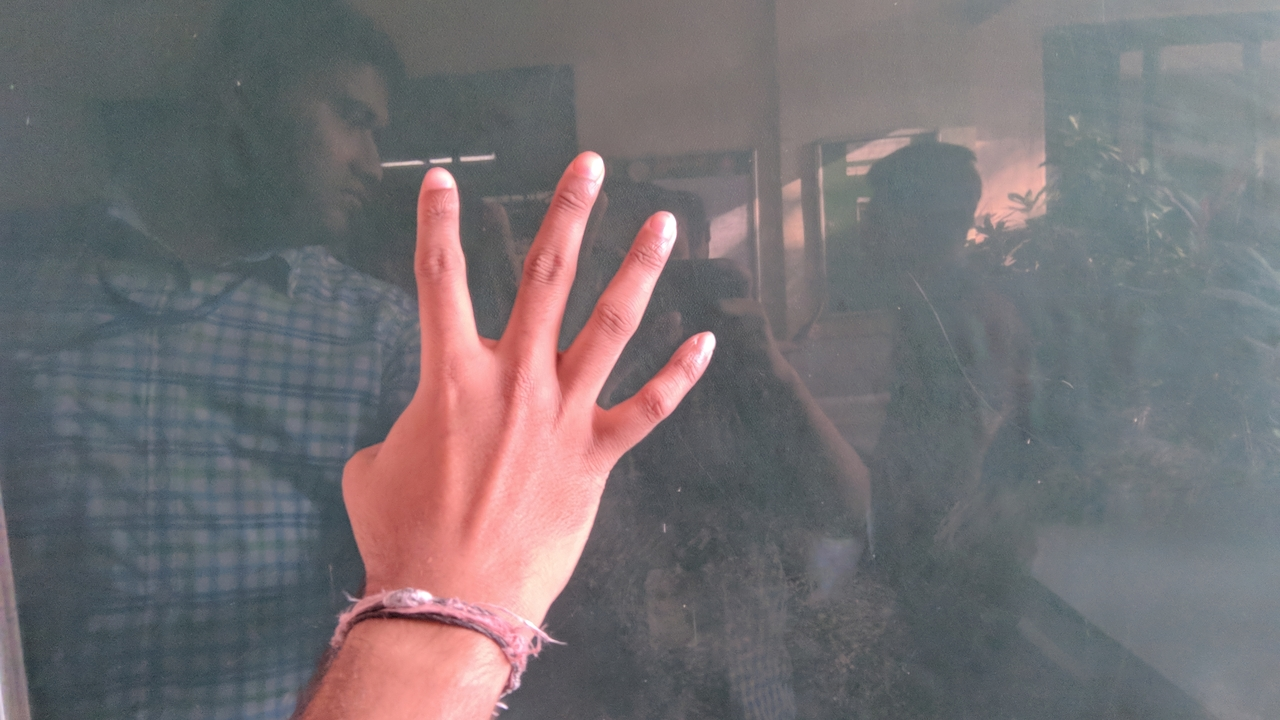fingertip: (622, 202, 686, 262), (552, 144, 610, 196), (410, 158, 460, 206), (674, 324, 724, 370)
